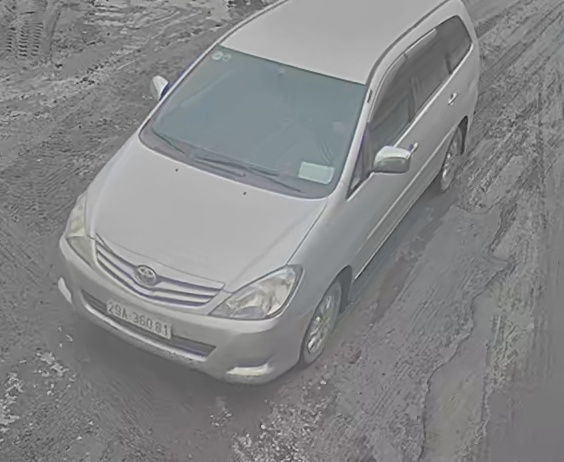vehicle plate: (104, 296, 179, 340)
